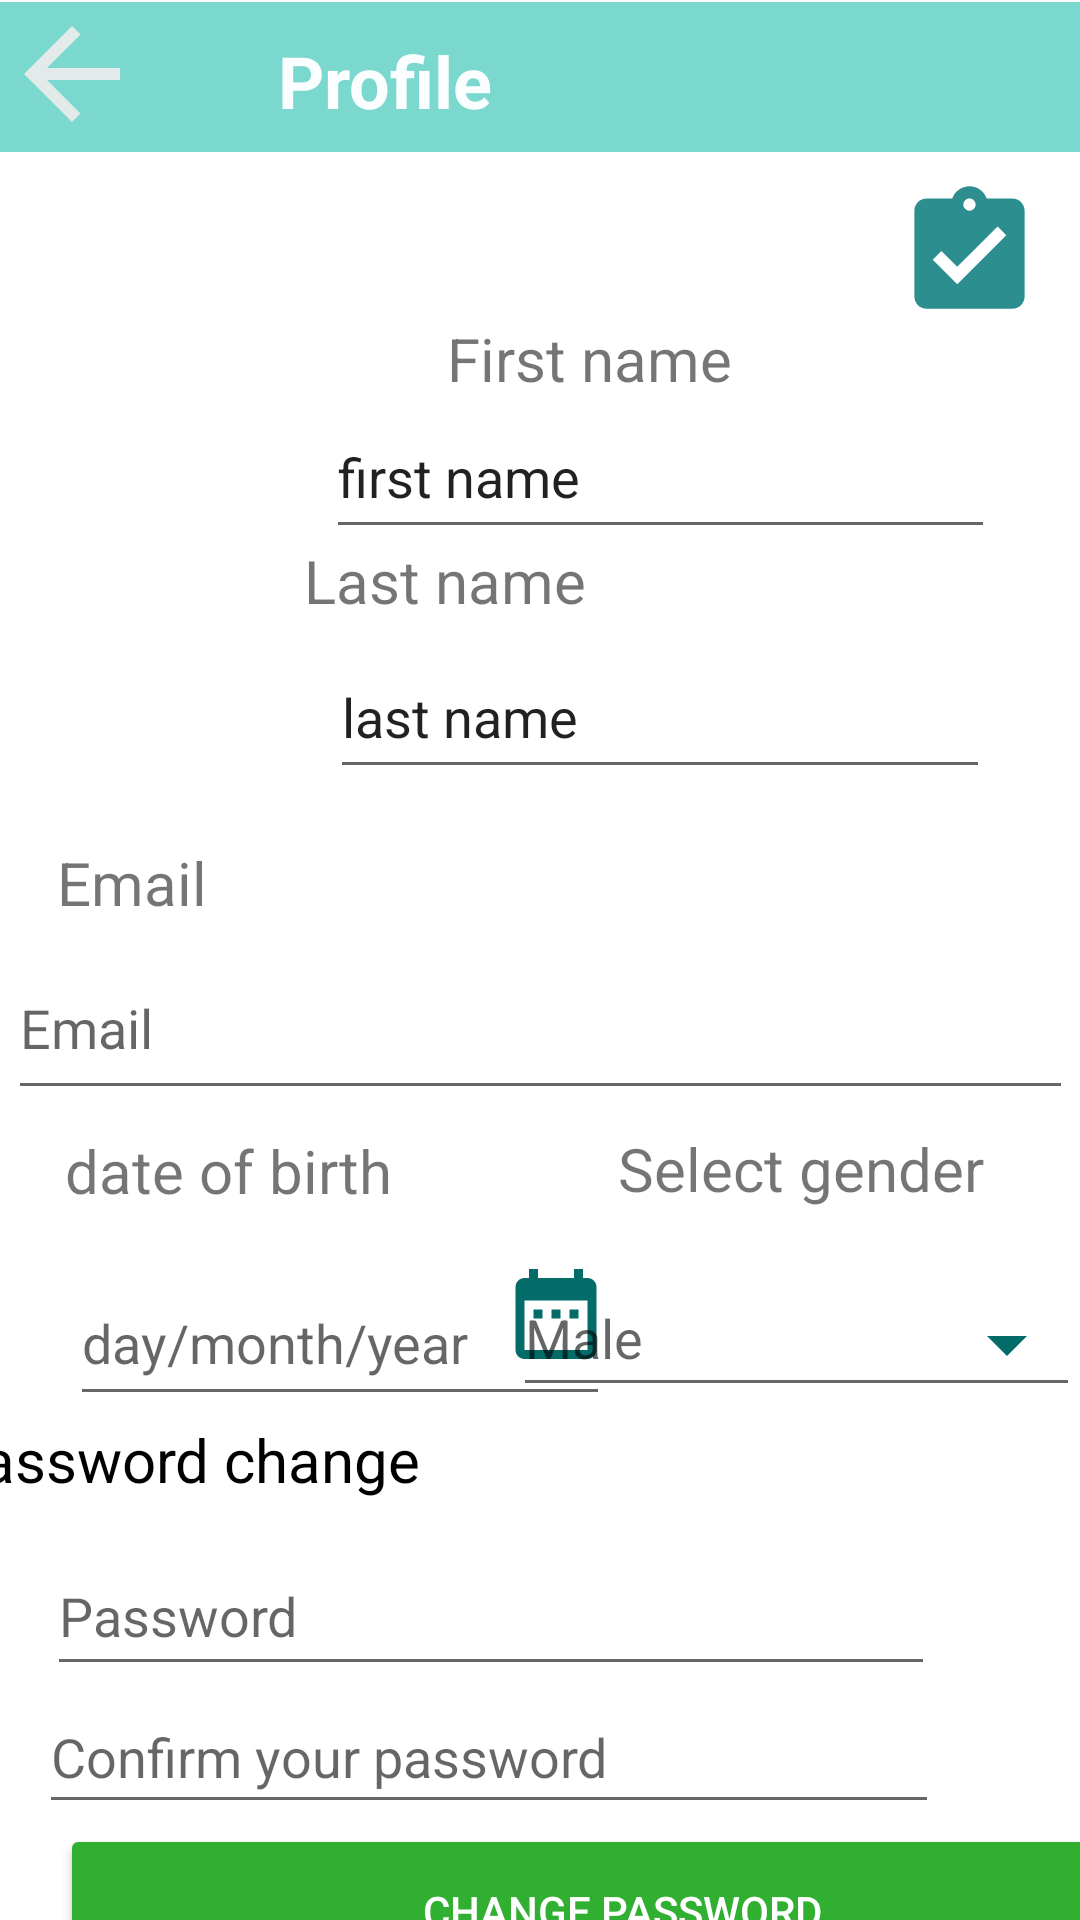

Named icons in this screenshot (1080px x 1920px) and their centers, point (x, y):
arrow back: point (72, 74)
arrow drop down: point (1007, 1346)
assignment turned in: point (969, 247)
date range: point (562, 1314)
